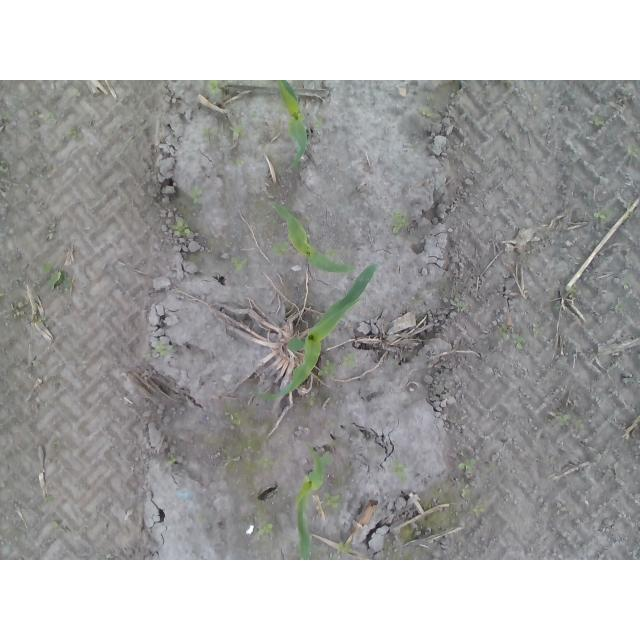Maize: (251, 263, 378, 401), (270, 200, 359, 273), (293, 444, 331, 561), (269, 80, 311, 173)
Weeds: (40, 262, 68, 291), (496, 322, 525, 350), (8, 302, 45, 323), (442, 288, 465, 313), (258, 503, 275, 535), (416, 90, 434, 118), (166, 218, 191, 237), (389, 210, 406, 234), (32, 112, 56, 129), (270, 239, 290, 258), (321, 490, 340, 510), (237, 431, 257, 450), (392, 459, 408, 482), (231, 253, 250, 272), (318, 359, 338, 377), (456, 455, 476, 473), (62, 127, 82, 145), (254, 456, 275, 473), (225, 409, 244, 427), (592, 207, 616, 221), (342, 351, 360, 369), (191, 184, 206, 204), (624, 142, 640, 160), (155, 340, 173, 355), (207, 80, 222, 98), (335, 541, 353, 556), (471, 504, 488, 519), (323, 246, 338, 262), (229, 125, 243, 141), (229, 157, 247, 168), (80, 351, 89, 370), (64, 86, 80, 96), (320, 418, 336, 428), (565, 284, 578, 296), (0, 158, 8, 177), (559, 413, 569, 428), (409, 296, 424, 306), (593, 117, 606, 128), (532, 322, 541, 337), (313, 116, 323, 128), (0, 291, 12, 301), (304, 391, 316, 401), (231, 478, 241, 490), (47, 495, 57, 506), (461, 486, 470, 498), (202, 127, 211, 138), (615, 304, 625, 313), (624, 279, 632, 289), (168, 453, 176, 463)
